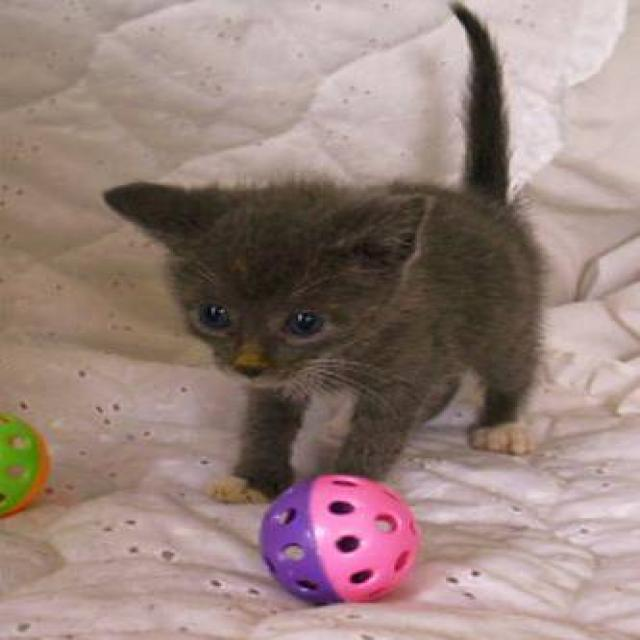cat: (102, 0, 550, 504)
